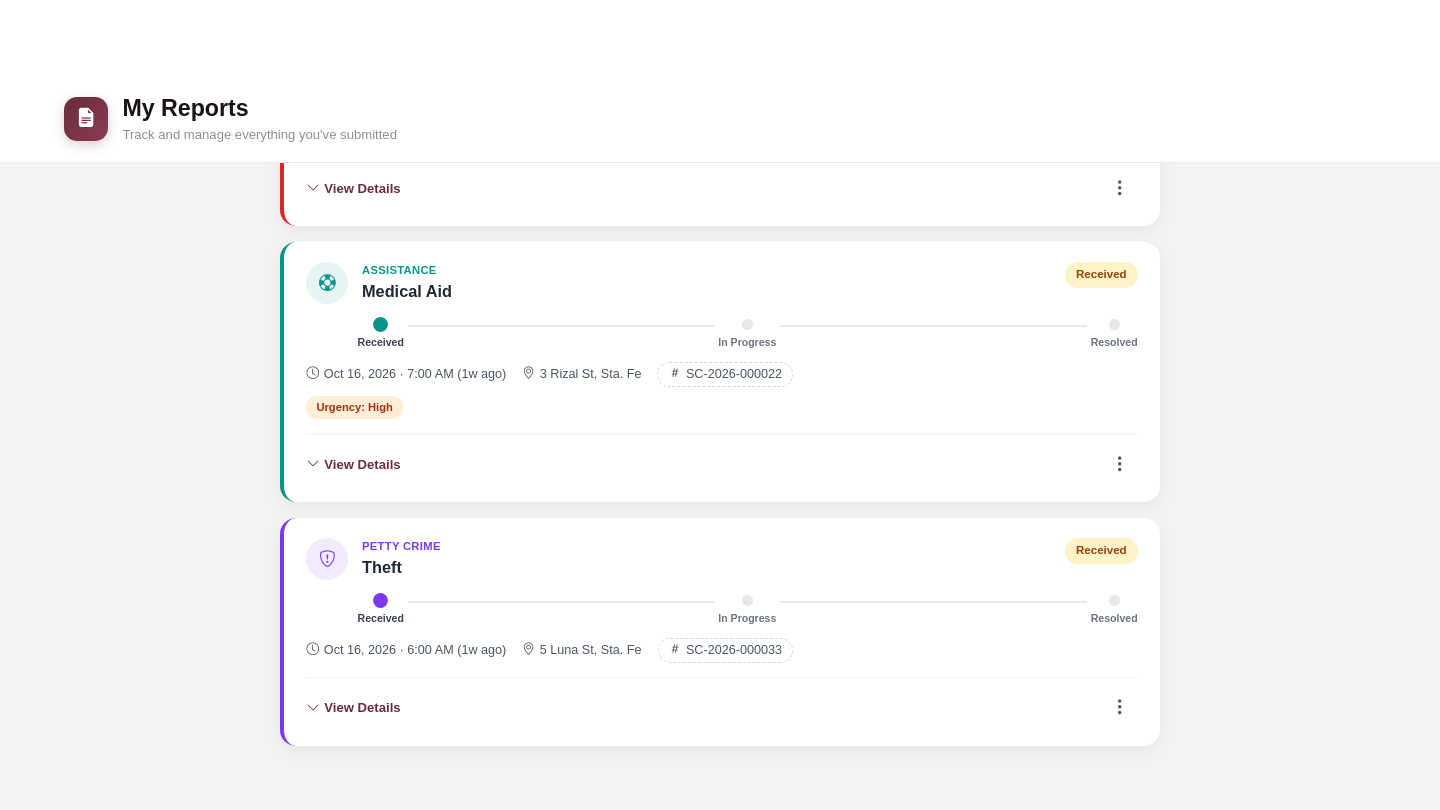
Test: Three-dot menu › choosing an option closes the menu
(page scrolled)
Click the 3rd button named "More options" at (1120, 708), box [1102, 690, 1138, 726]
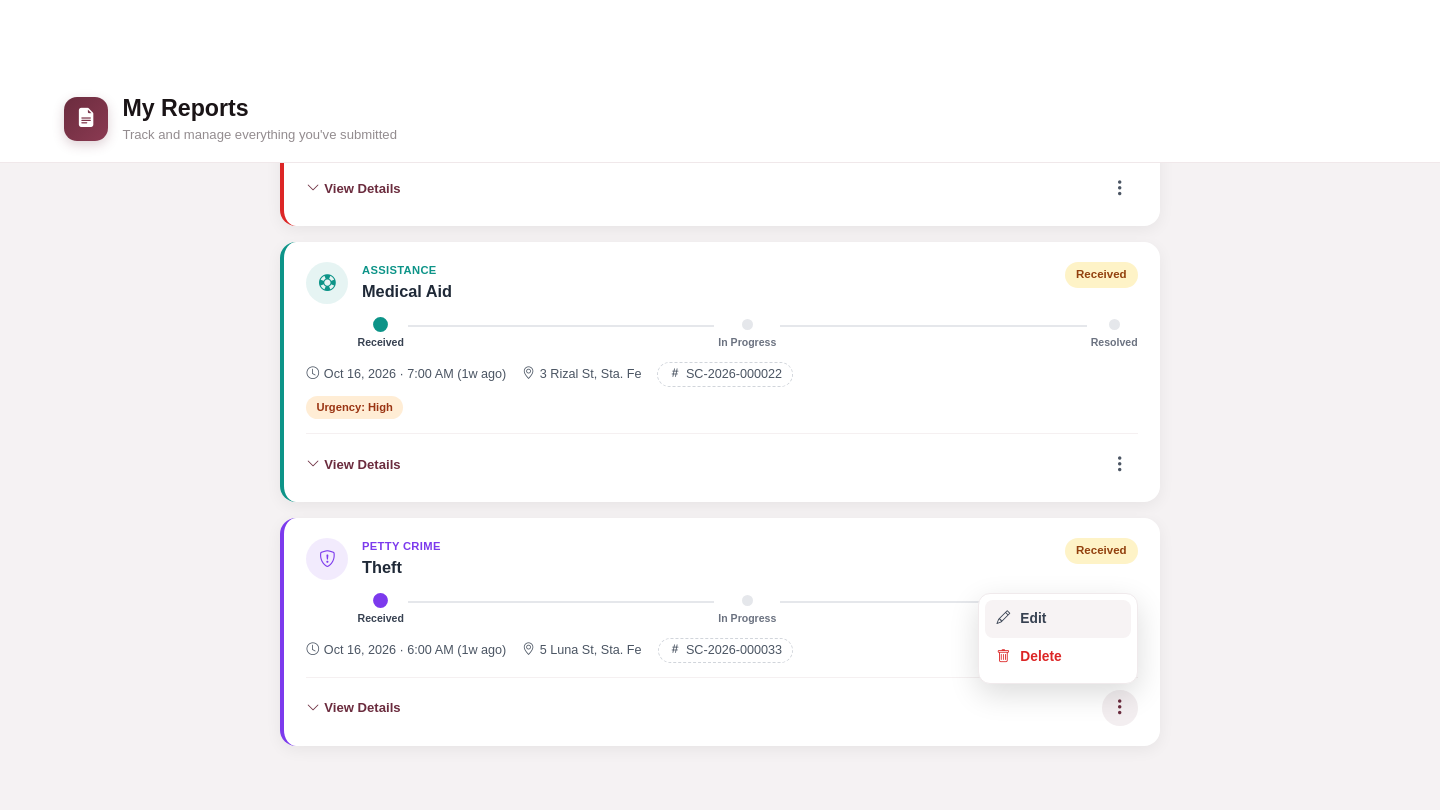
Click the menu item "Delete" at (1058, 658), box [985, 638, 1131, 677]
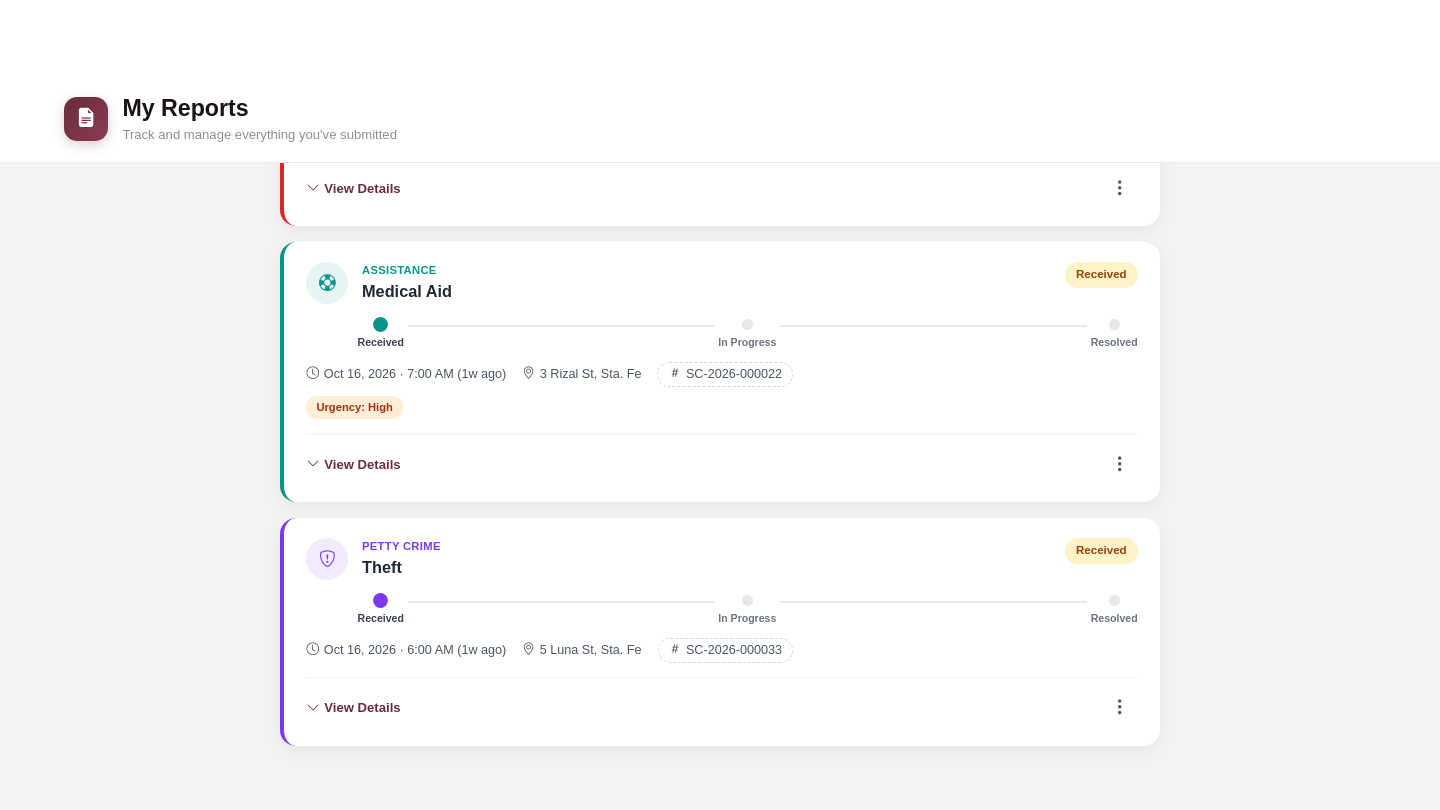
Result: the menu is gone
